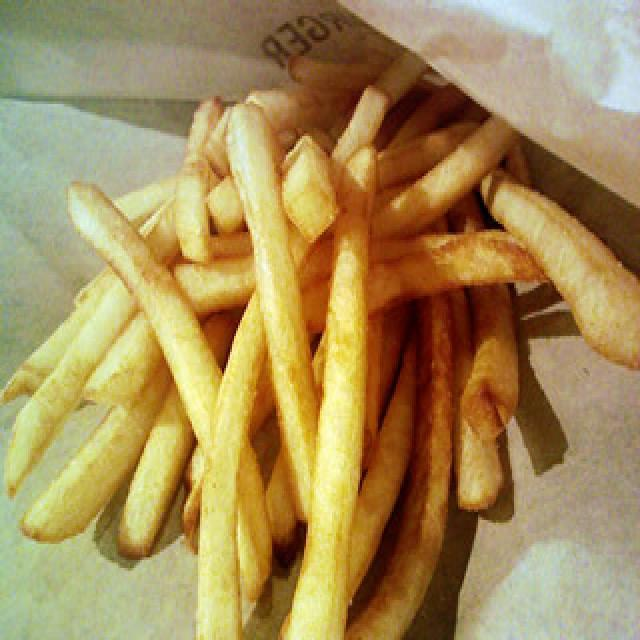French Fries: (17, 57, 638, 639)
